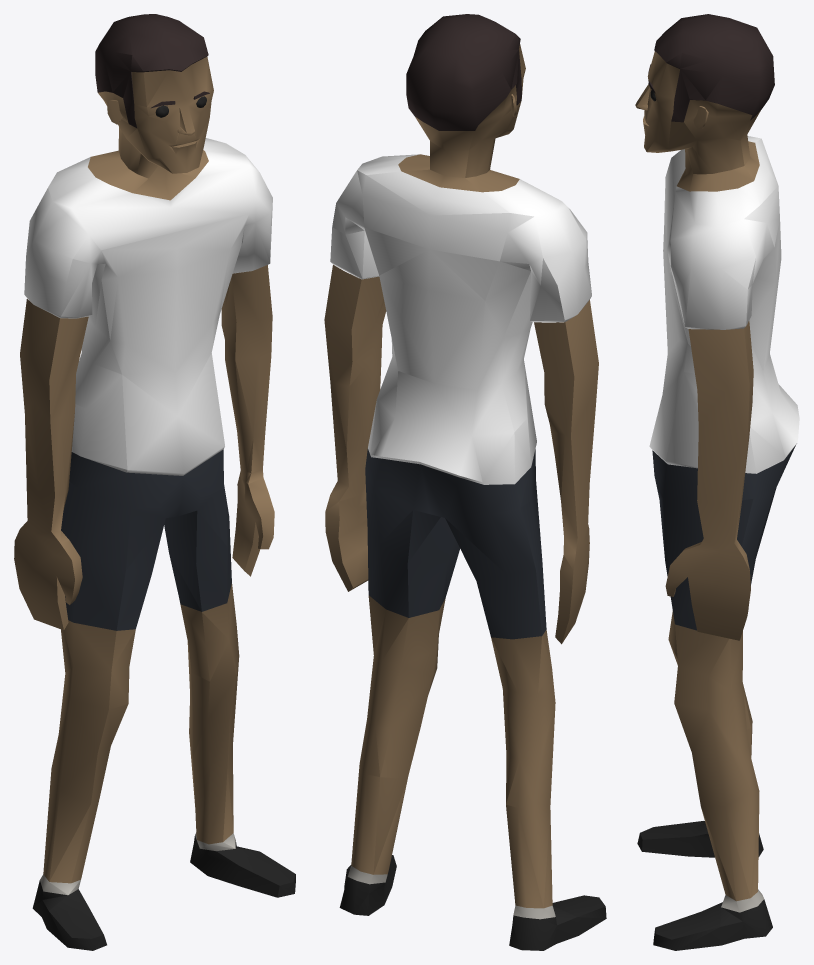
The model's file is person-stand.glb.
3 views of the same model, side by side, from view 1: azimuth 30°, elevation 25°; view 2: azimuth 150°, elevation 25°; view 3: azimuth 270°, elevation 25° (orthographic). The views are drawn at different scales.
Parts seen in each view (by area): view 1: lod0; view 2: lod0; view 3: lod0.
Part boxes in pixels (x1=…): lod0: x1=14, y1=14, x2=295, y2=950; lod0: x1=324, y1=14, x2=606, y2=950; lod0: x1=635, y1=14, x2=799, y2=950.
Size of what is drawn, in the model's own units: 0.516 by 1.75 by 0.2993.
